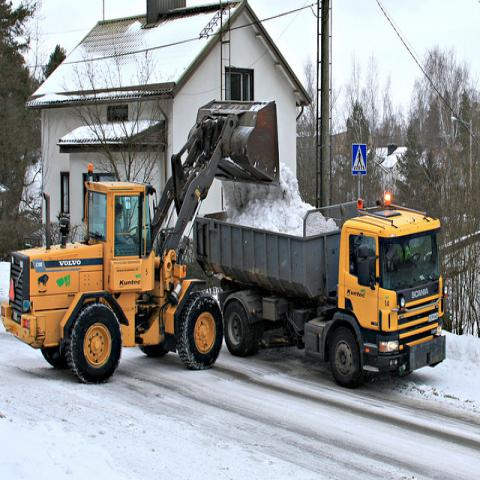truck: (4, 101, 280, 386), (192, 199, 446, 385)
